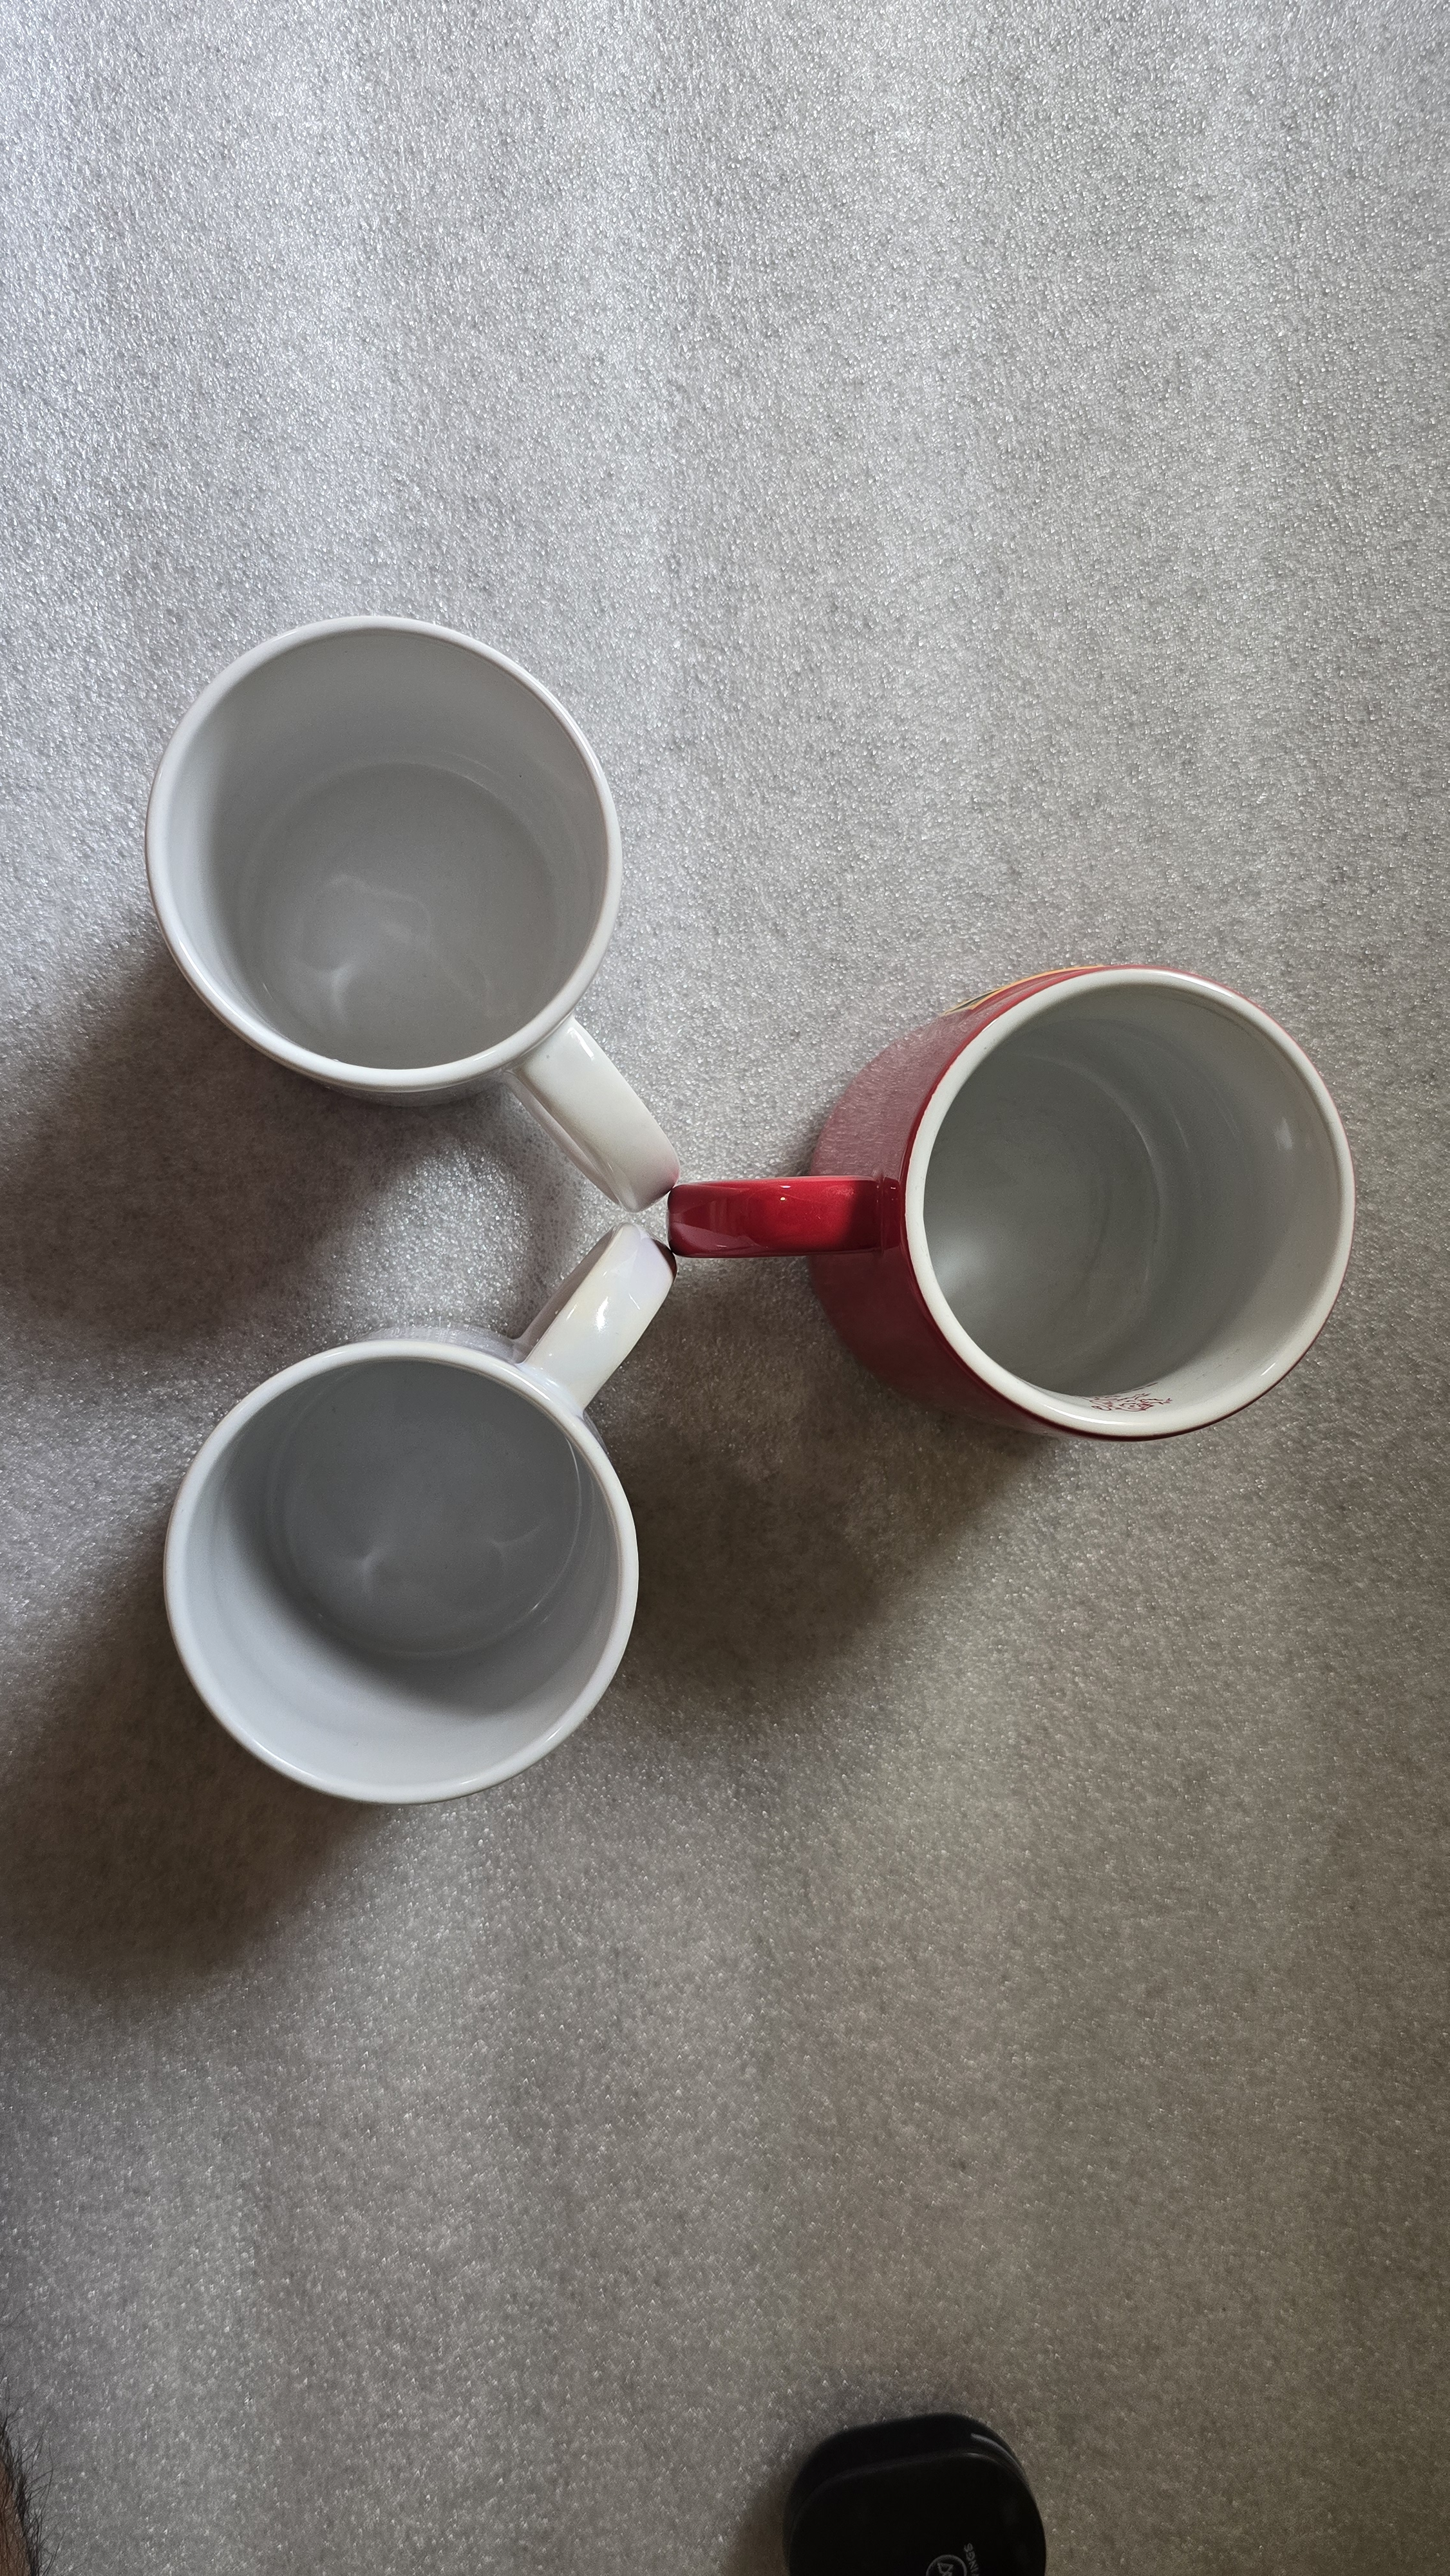mug: (90, 1162, 785, 1884), (663, 955, 1393, 1460), (136, 612, 723, 1207)
